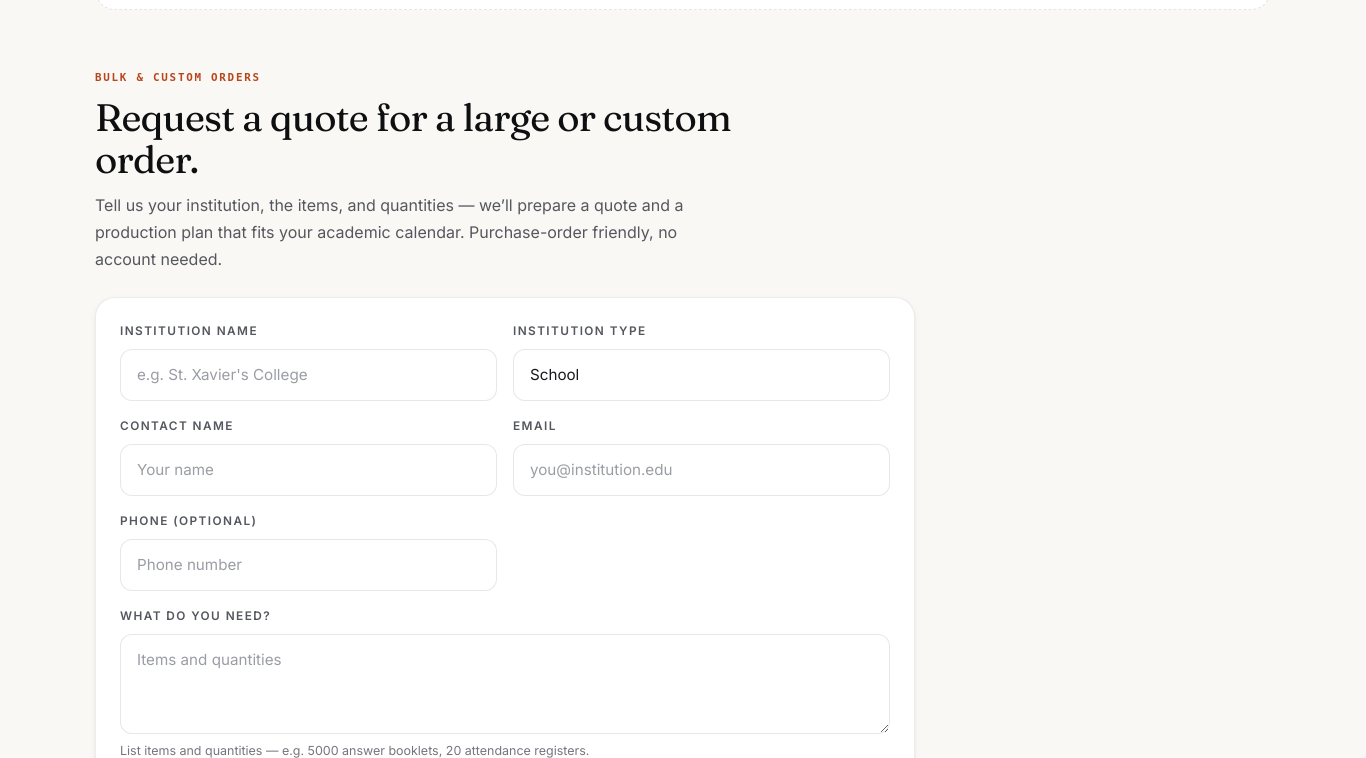
it: InstitutionsPage — bulk quote form › submits the enquiry and shows a confirmation on success
(page scrolled)
Step 1. Type "St. Xavier's College" into the field labelled "Institution name" → (308, 375), box [120,349,497,401]
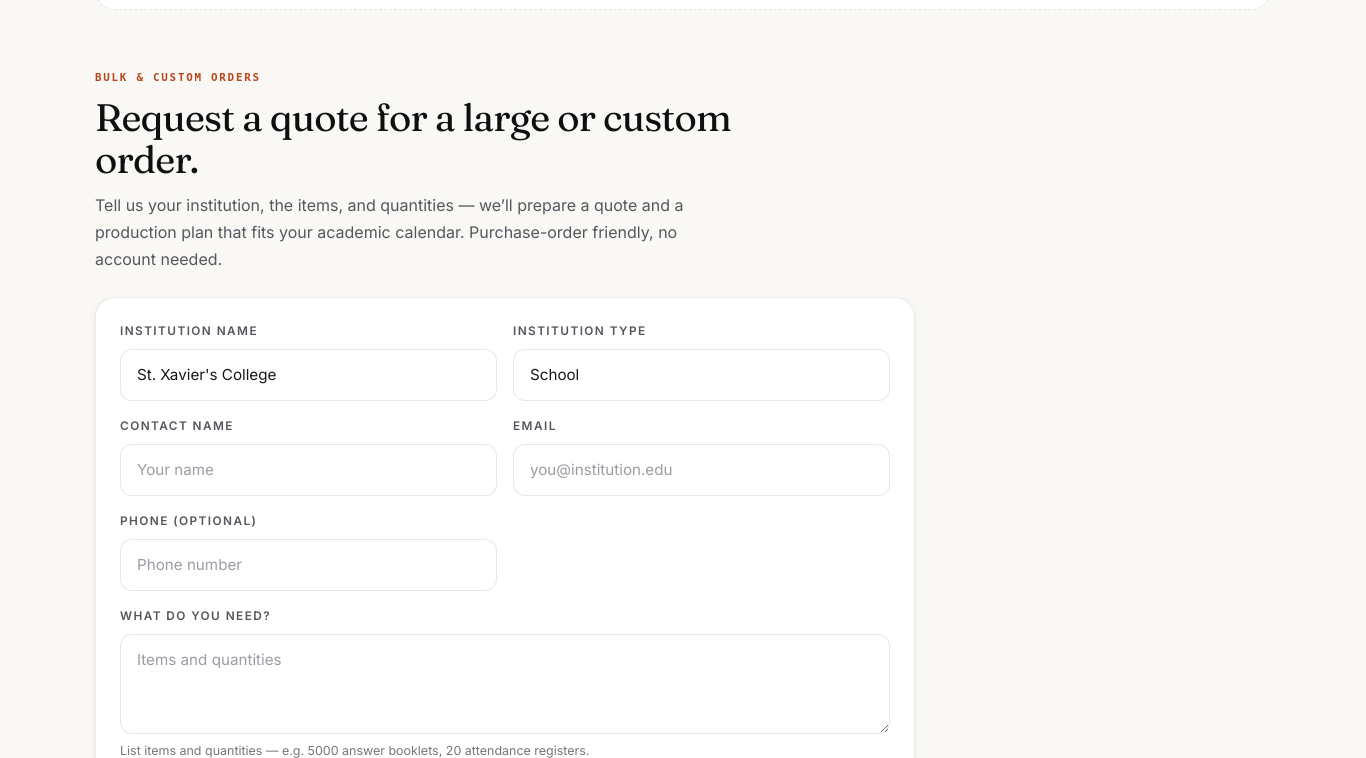
Step 2. Type "A. Fernandes" into the field labelled "Contact name" → (308, 470), box [120,444,497,496]
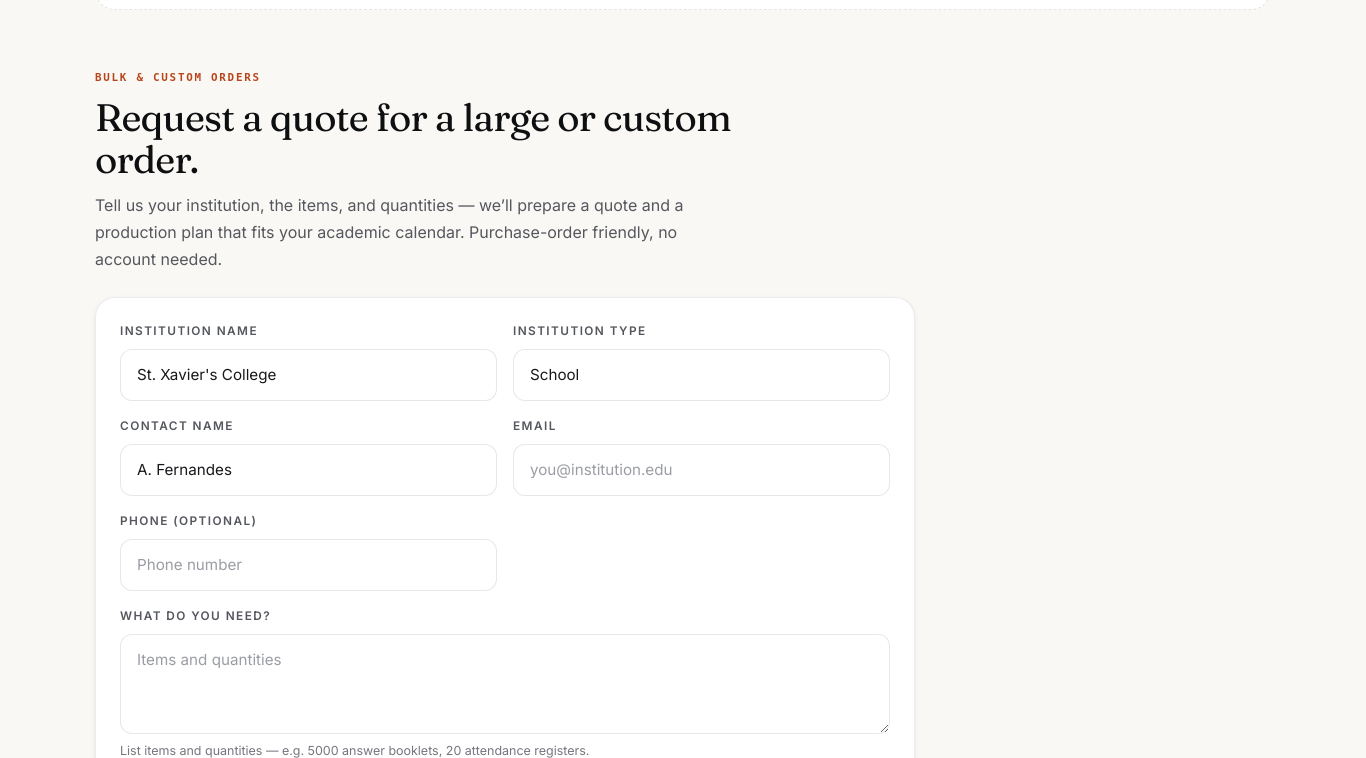
Step 3. Type "buyer@stx.edu" into the field labelled "Email" → (702, 470), box [513,444,890,496]
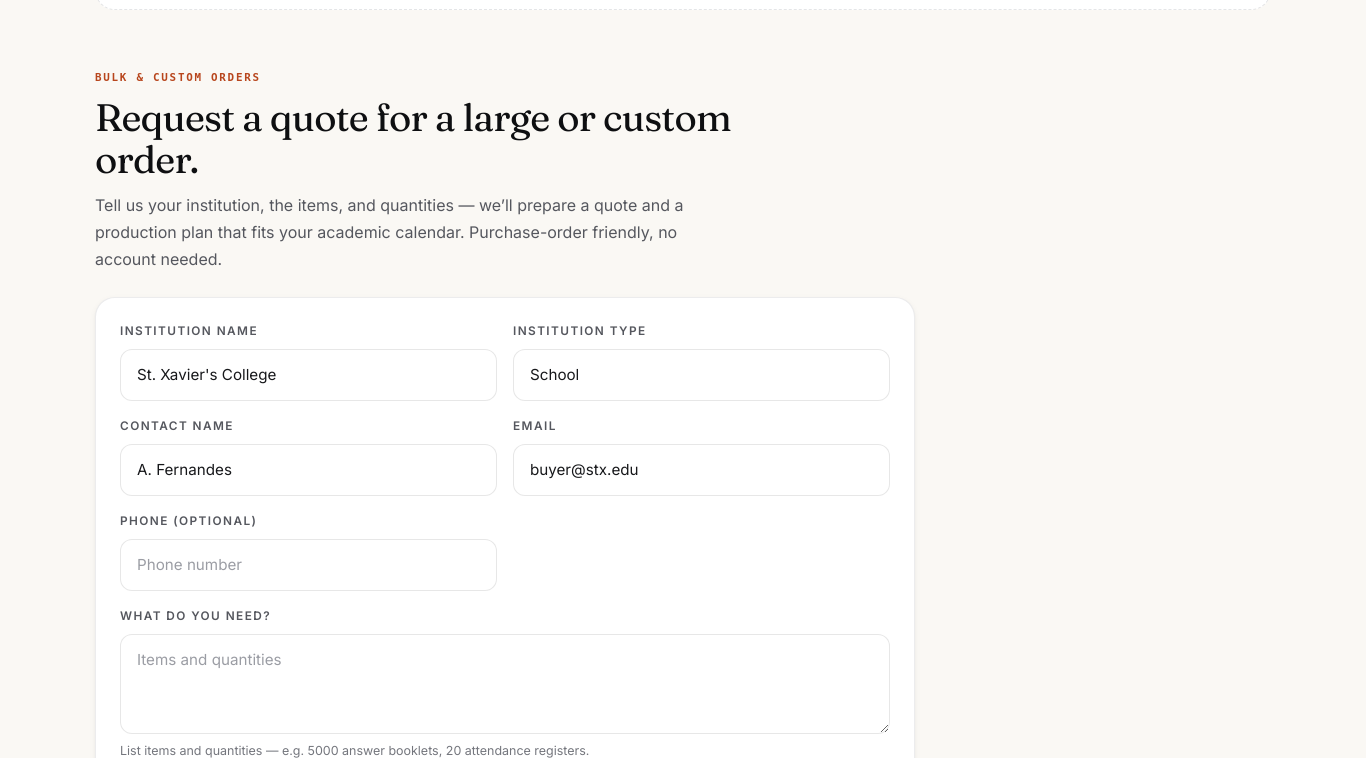
Step 4. Type "5000 answer booklets" into the text box labelled "What do you need?" → (505, 684), box [120,634,890,734]
(page scrolled)
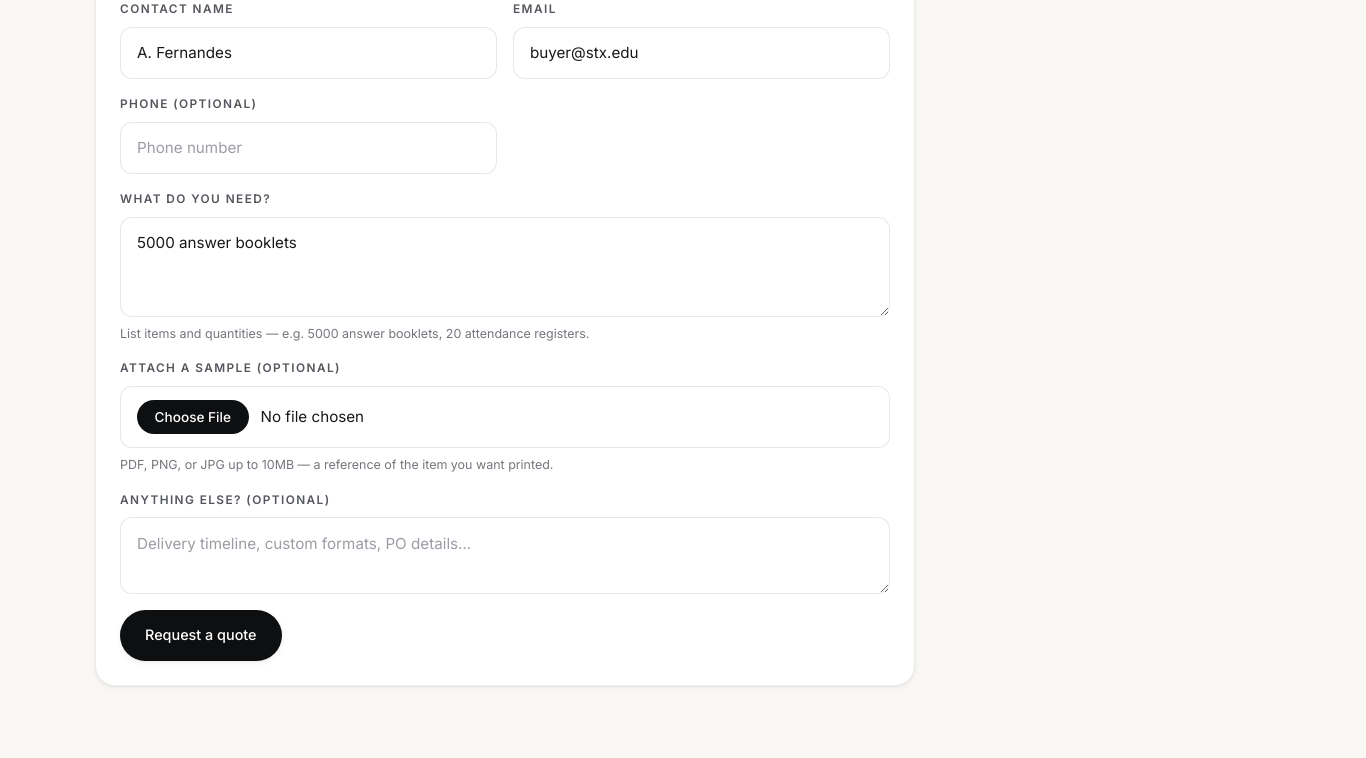
Step 5. Click the button "Request a quote" → (201, 635), box [120,610,282,661]
(page scrolled)
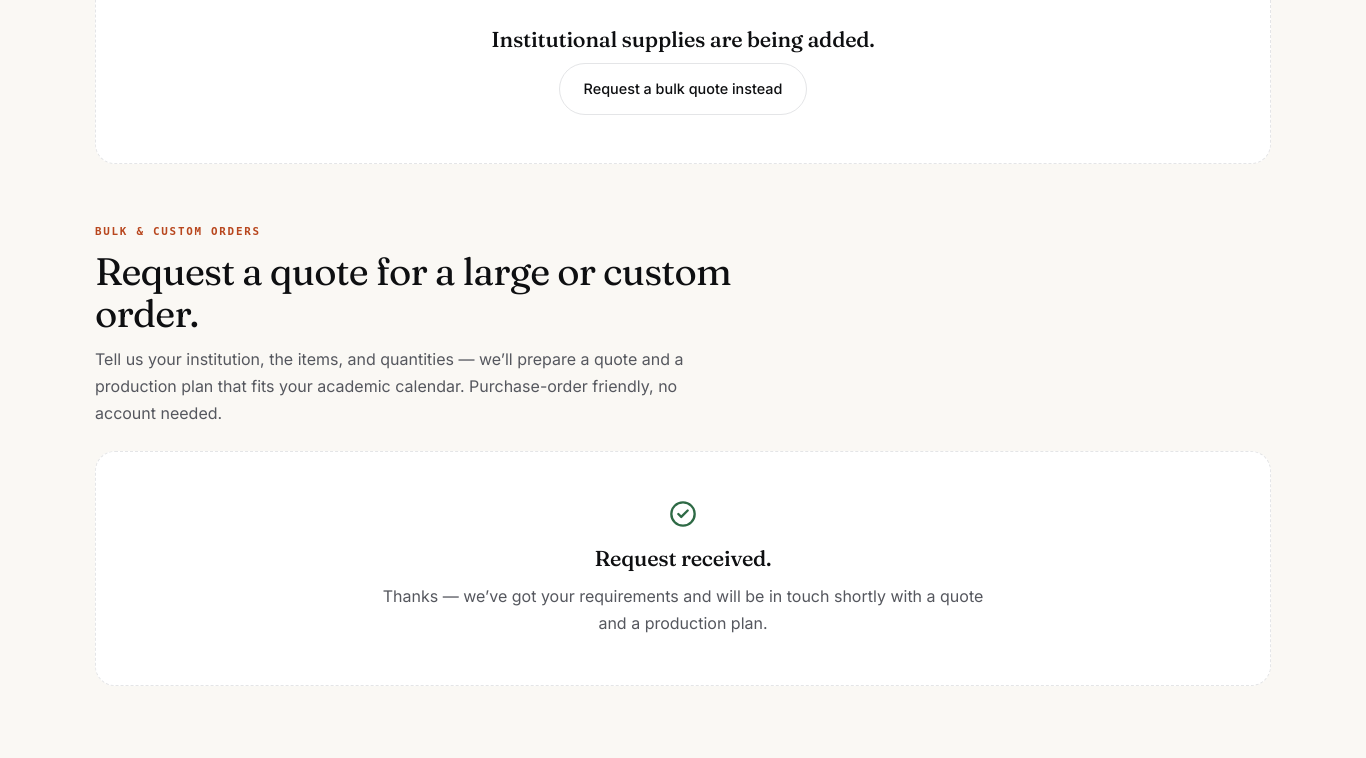
Expected: the heading "Request received." is shown, [594,547,771,571]
